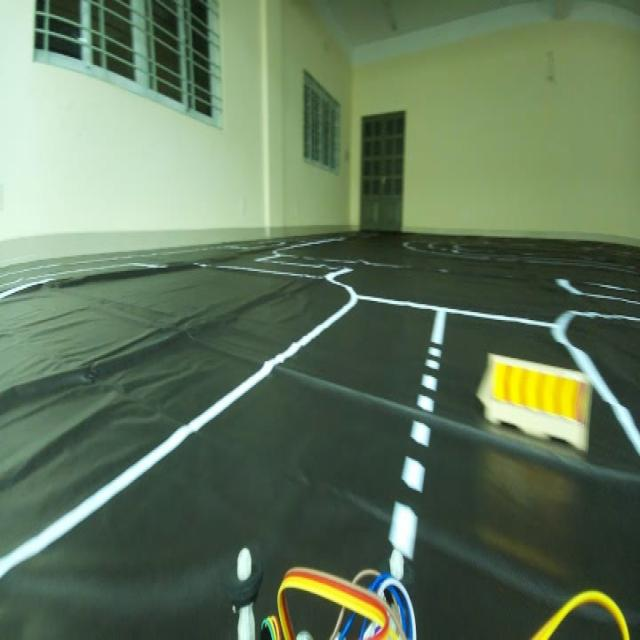roadblock: (471, 335, 597, 473)
